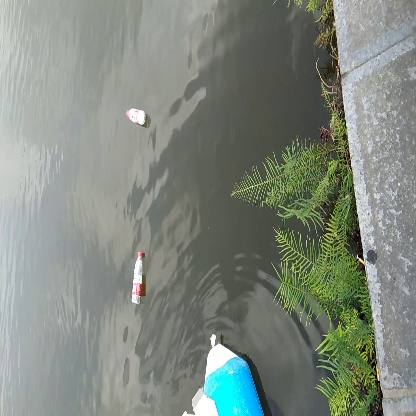bottle: (128, 250, 151, 307), (120, 104, 152, 126)
